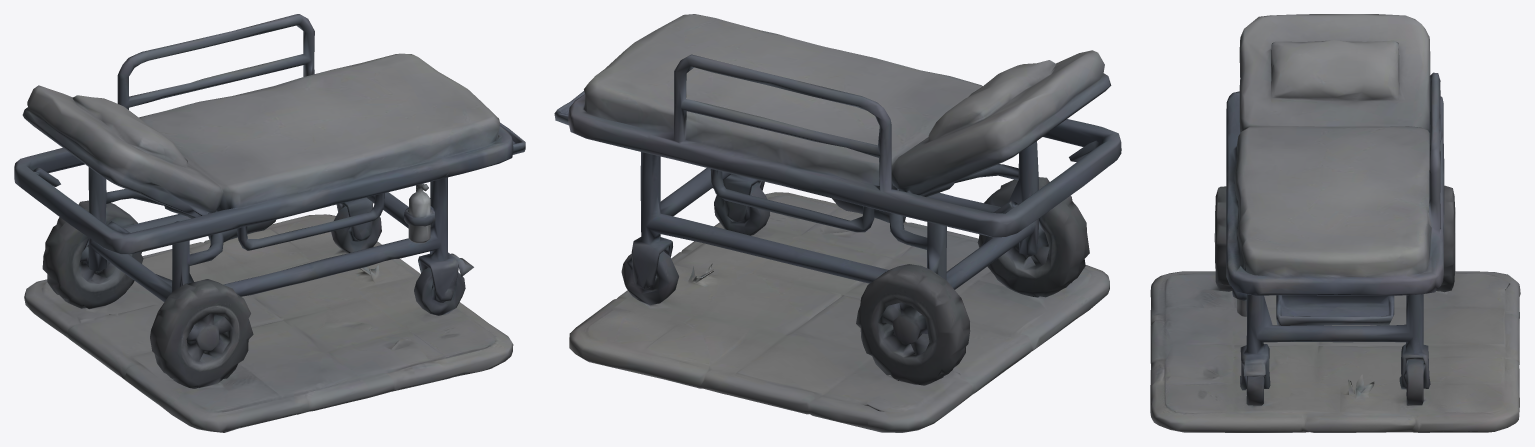
Rendered from hospital_stretcher.glb.
3 renders of one model, left to right at view 1: azimuth 30°, elevation 25°; view 2: azimuth 150°, elevation 25°; view 3: azimuth 270°, elevation 25°, orthographic. The views are drawn at different scales.
Parts seen in each view (by area): view 1: tripo_node_13d4b266-95b0-4e67-a578-29e3cfe9dadd; view 2: tripo_node_13d4b266-95b0-4e67-a578-29e3cfe9dadd; view 3: tripo_node_13d4b266-95b0-4e67-a578-29e3cfe9dadd.
Part boxes in pixels (x1=…): tripo_node_13d4b266-95b0-4e67-a578-29e3cfe9dadd: x1=14, y1=14, x2=525, y2=432; tripo_node_13d4b266-95b0-4e67-a578-29e3cfe9dadd: x1=554, y1=14, x2=1121, y2=432; tripo_node_13d4b266-95b0-4e67-a578-29e3cfe9dadd: x1=1150, y1=14, x2=1520, y2=432.
Bounding box in the file's own units: 1 × 0.5761 × 0.7591.
Materials: 1 (1 with a texture image).
